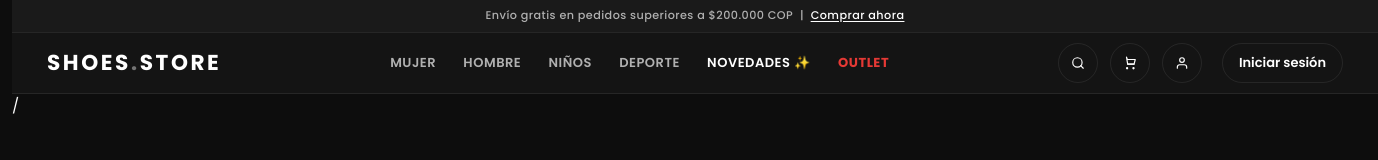
Navbar — búsqueda › escribir un texto y enviar el formulario navega a /catalogo?q=<texto>
Click the button named "Buscar" at (1078, 63), box [1058,43,1098,83]
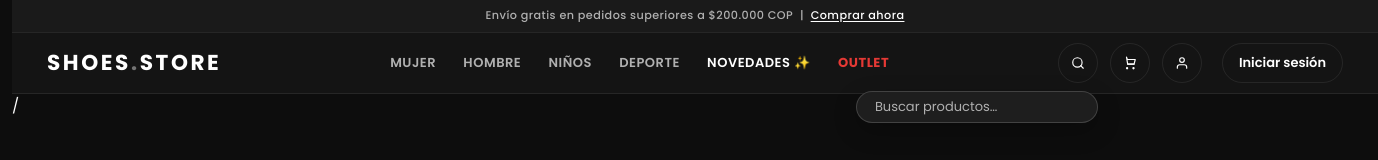
Type "nike air" into the search field with placeholder "Buscar productos…" at (983, 107), box [873,96,1093,118]
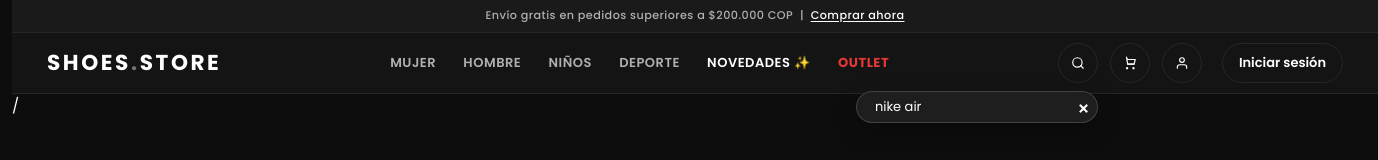
Submit the form with placeholder "Buscar productos…", box [856,91,1098,123]
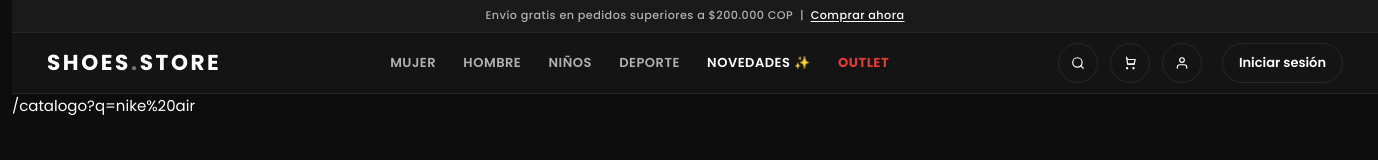
Now the text with test id "location-display" reads "/catalogo?q=nike%20air", box [12,95,195,116]
